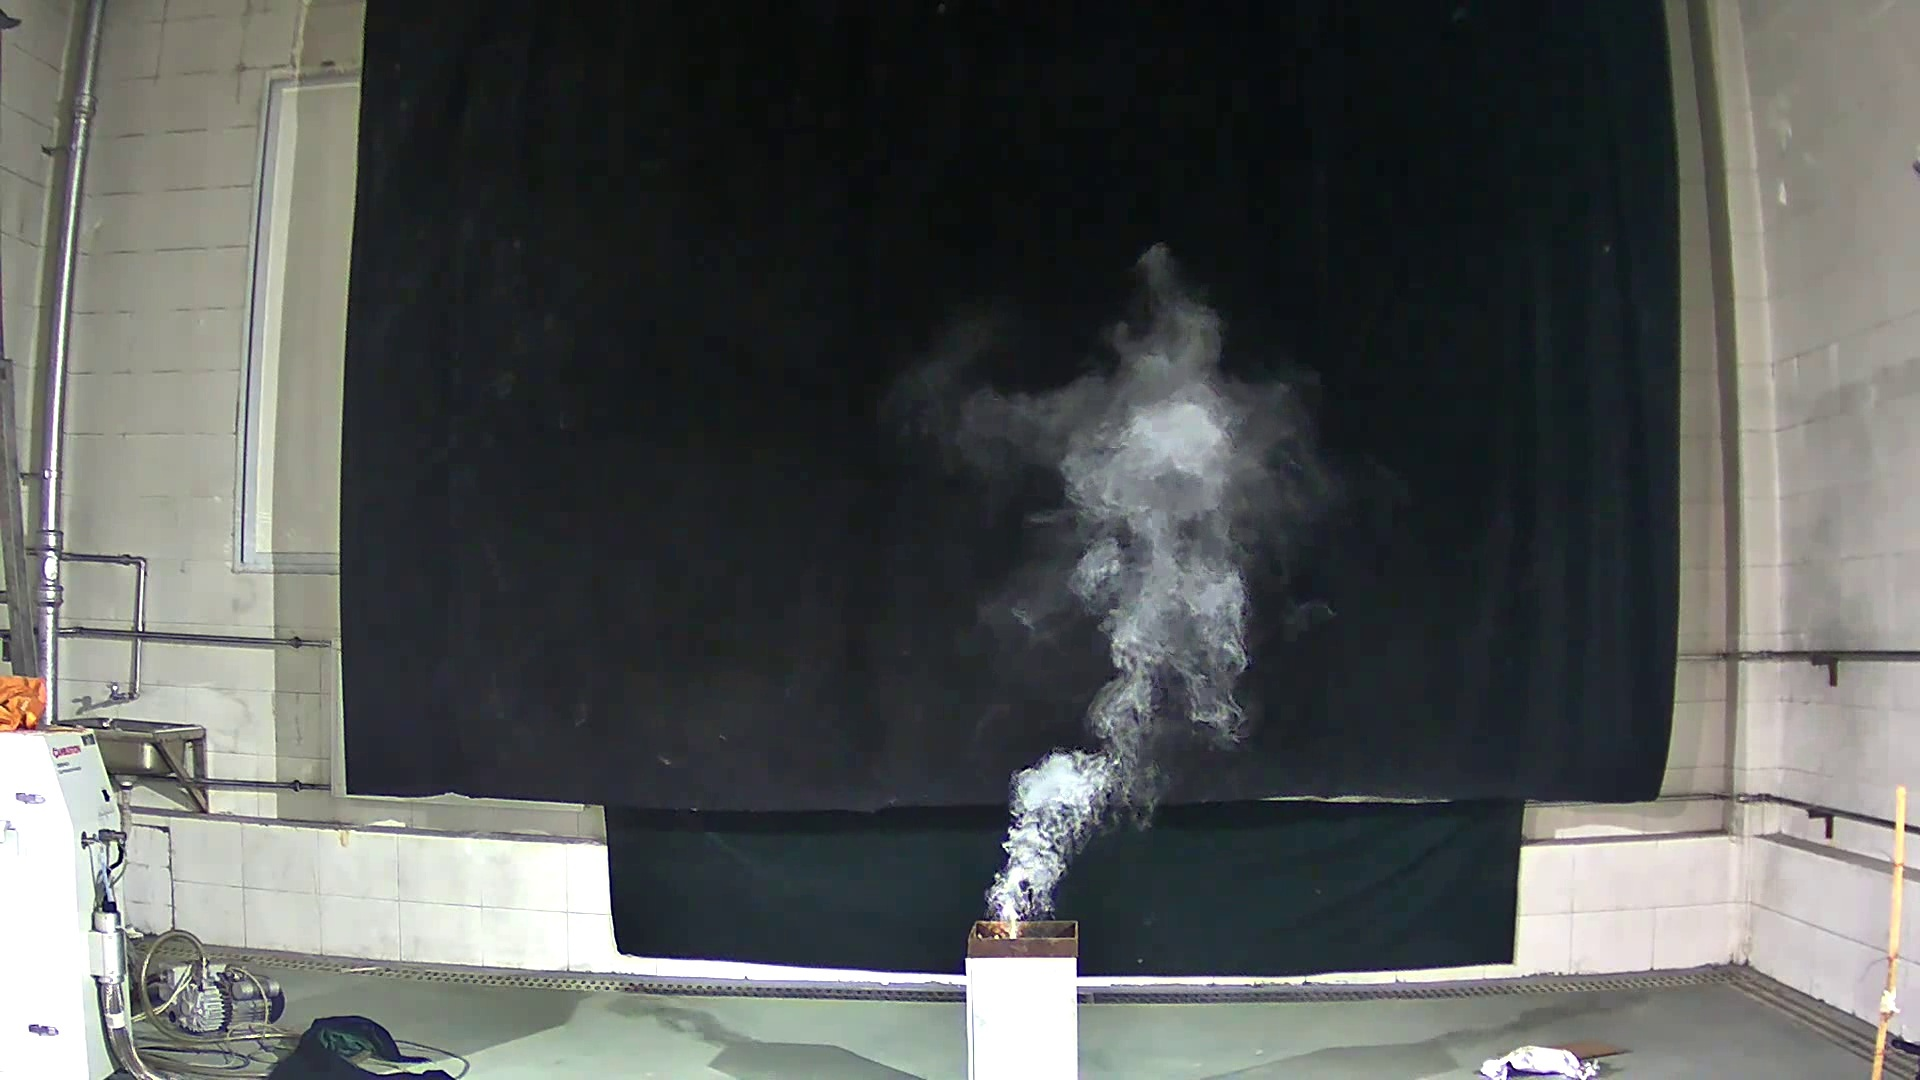smoke: (887, 251, 1352, 928)
